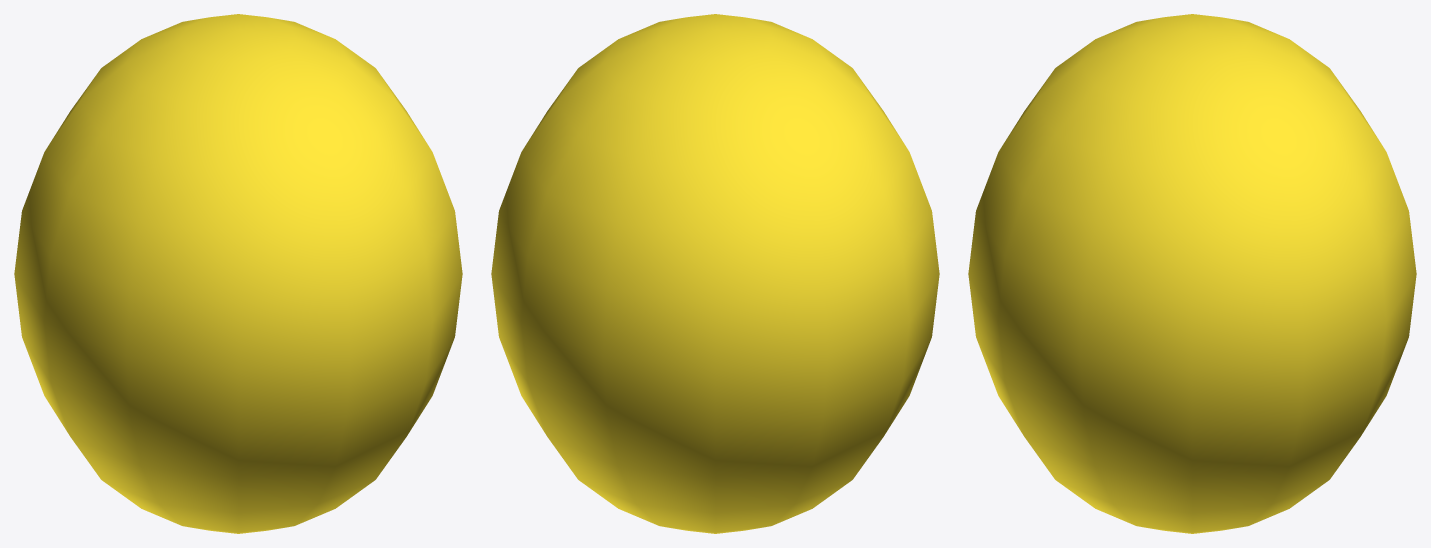
Rendered from Voltwisp_stage2.obj.
3 renders of one model, left to right at view 1: azimuth 30°, elevation 25°; view 2: azimuth 150°, elevation 25°; view 3: azimuth 270°, elevation 25°, orthographic.
Size of the model in its own units: 2 by 2.4 by 2.
